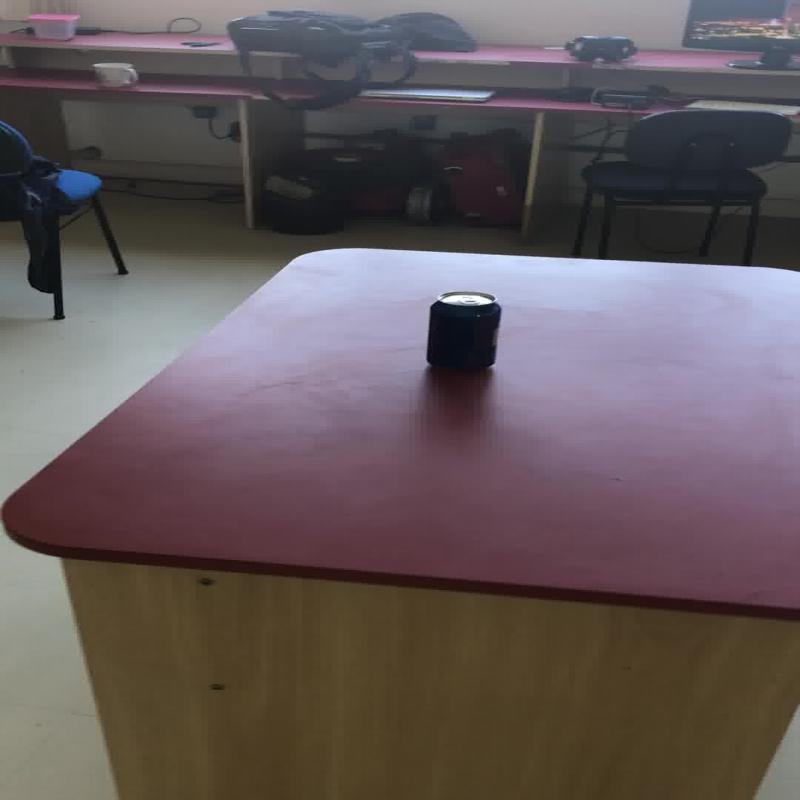tonic: (424, 290, 500, 368)
